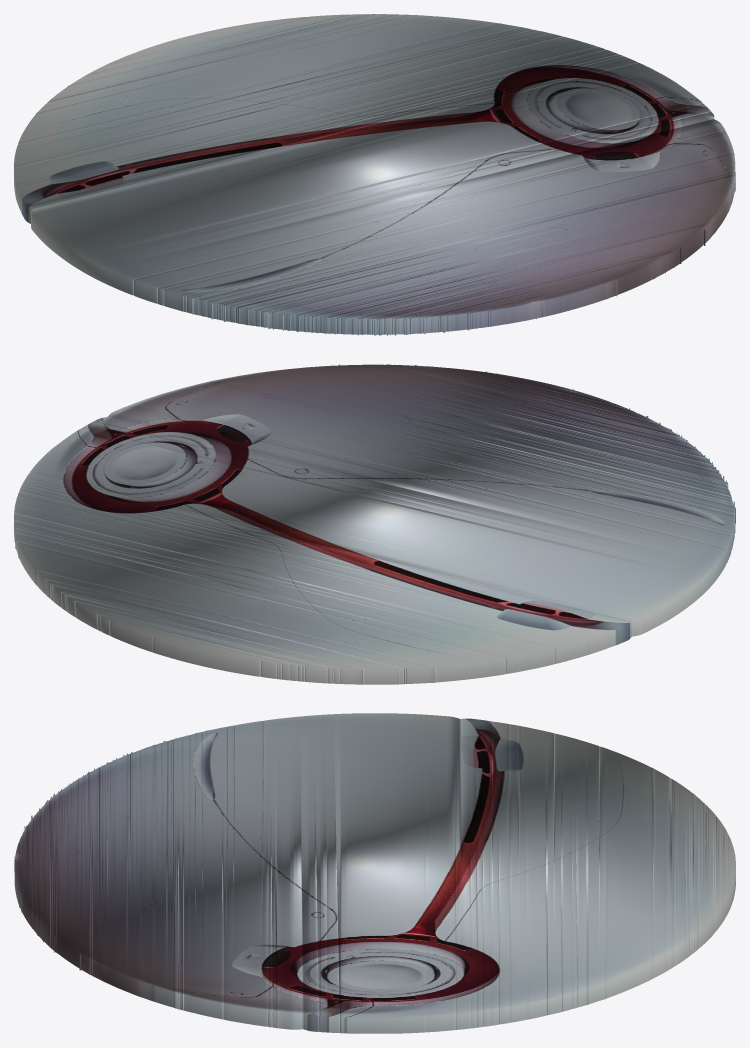
3 views of the same model, one above another, from view 1: azimuth 30°, elevation 25°; view 2: azimuth 150°, elevation 25°; view 3: azimuth 270°, elevation 25° (orthographic).
Parts seen in each view (by area): view 1: path1587; view 2: path1587; view 3: path1587.
Part boxes in pixels (<box>): path1587: <box>14,14,735,335</box>; path1587: <box>14,364,735,684</box>; path1587: <box>14,713,735,1033</box>.
Size of the model in its own units: 83.1 by 2 by 83.17.
1 material, 1 textured.
